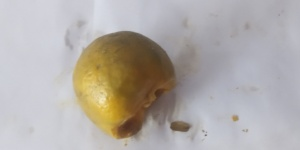BAD: (72, 30, 179, 138)
